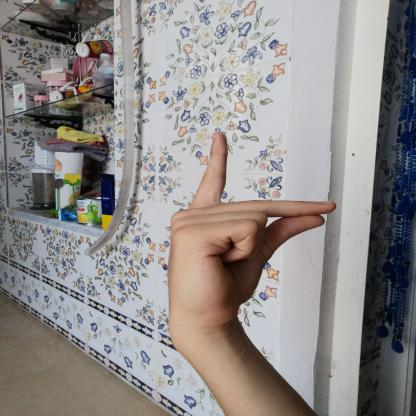TAA: (150, 125, 352, 335)
